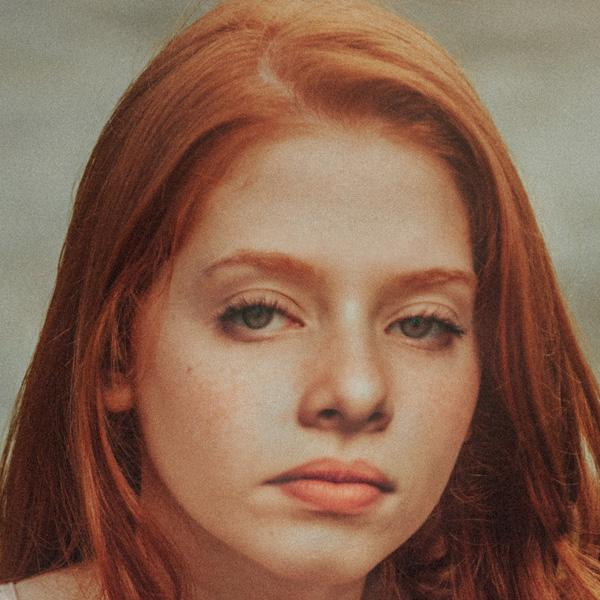Eyes: (207, 281, 309, 345), (378, 294, 468, 358)
